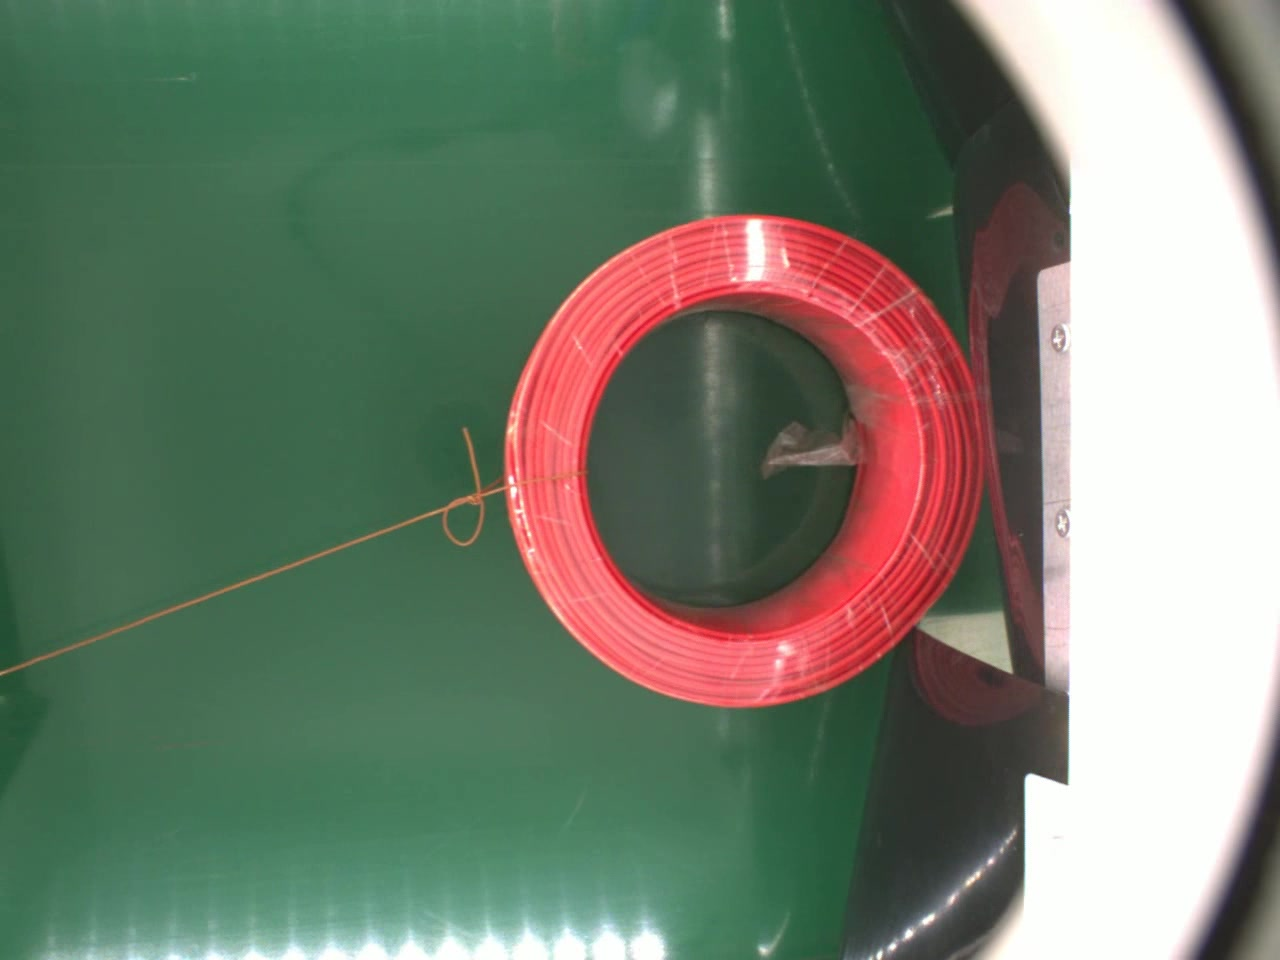red: (500, 213, 993, 711)
